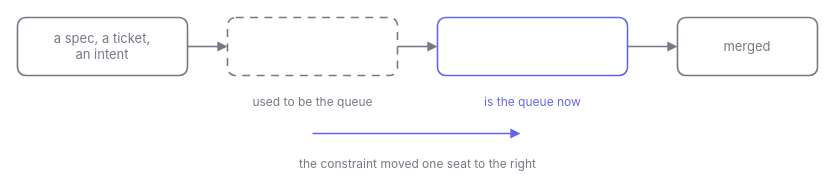
Some shapes in this 836 by 193 pixel diagram are drawn without their labels. Each missing label, with the box of its shape:
the diff: (226, 16, 398, 76)
the judgement: (436, 16, 628, 76)
